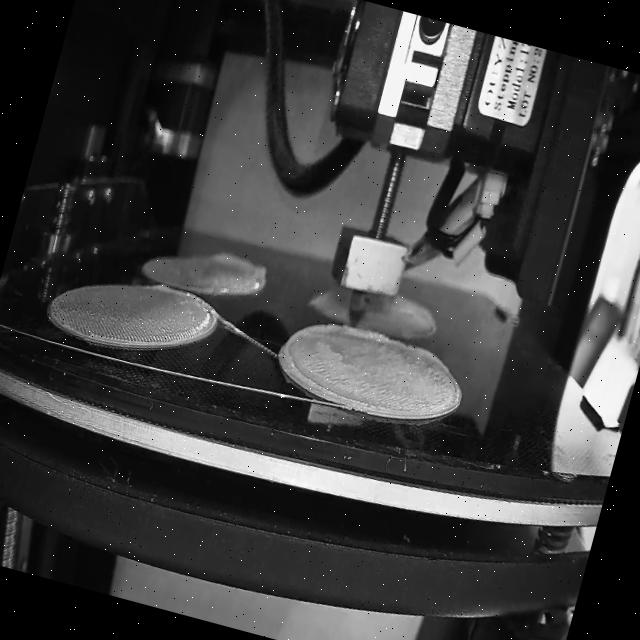over_extrusion: (271, 308, 398, 411), (208, 243, 280, 290), (152, 280, 179, 298)
